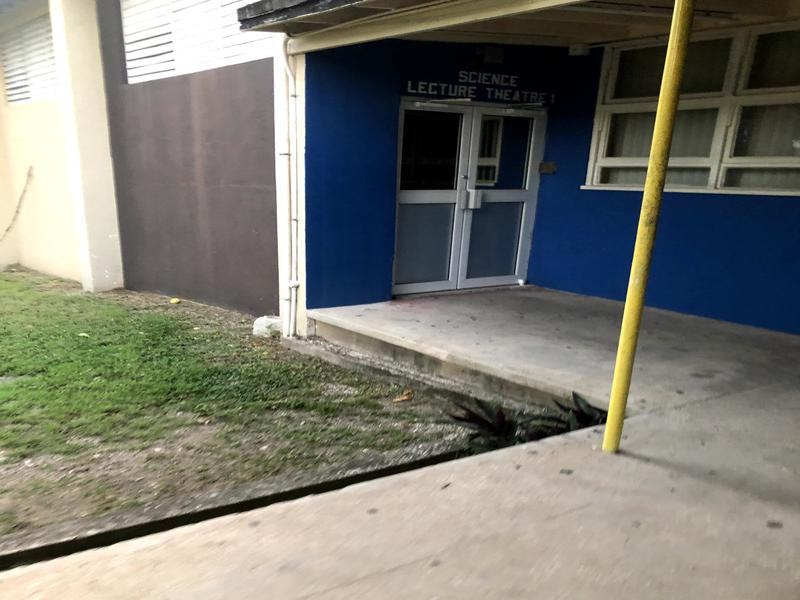18.0051836_-76.7497262_pclt1: (385, 68, 577, 328)
